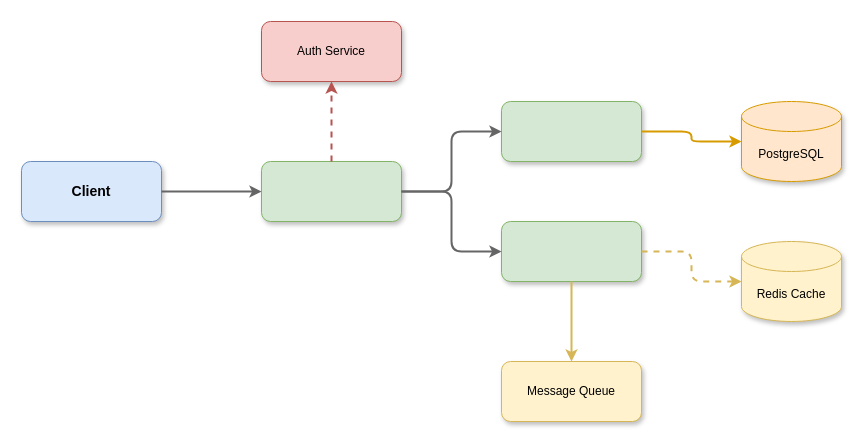
Some shapes in this 865 by 446 pixel diagram are drawn without their labels. The centre of each missing label's shape, as x and y in pixels:
"API Gateway" goes at (332,192).
"App Service" goes at (572,132).
"Worker Service" goes at (572,252).
